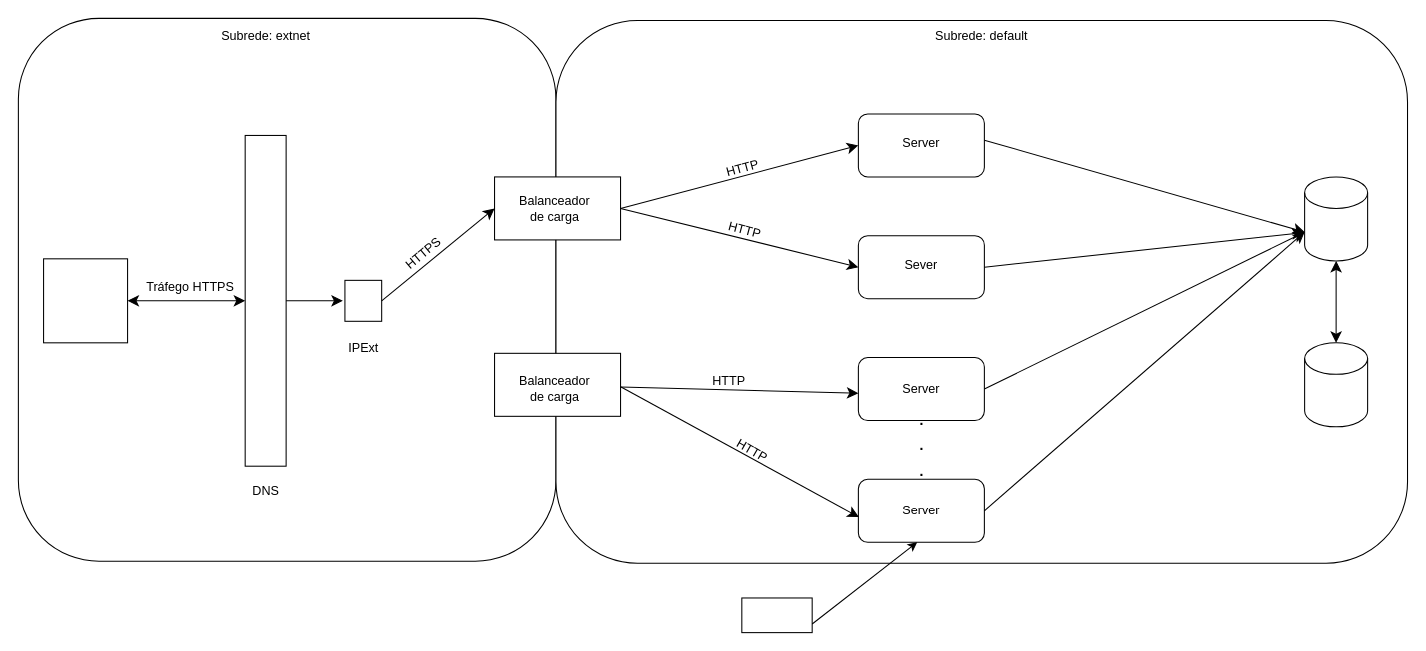
The diagram is 1426 pixels wide and 651 high, and some of its shapes have lost their labels. Each missing label, with the centre of its shape:
"API" belongs at (776,615).
"Cliente" belongs at (85,300).
